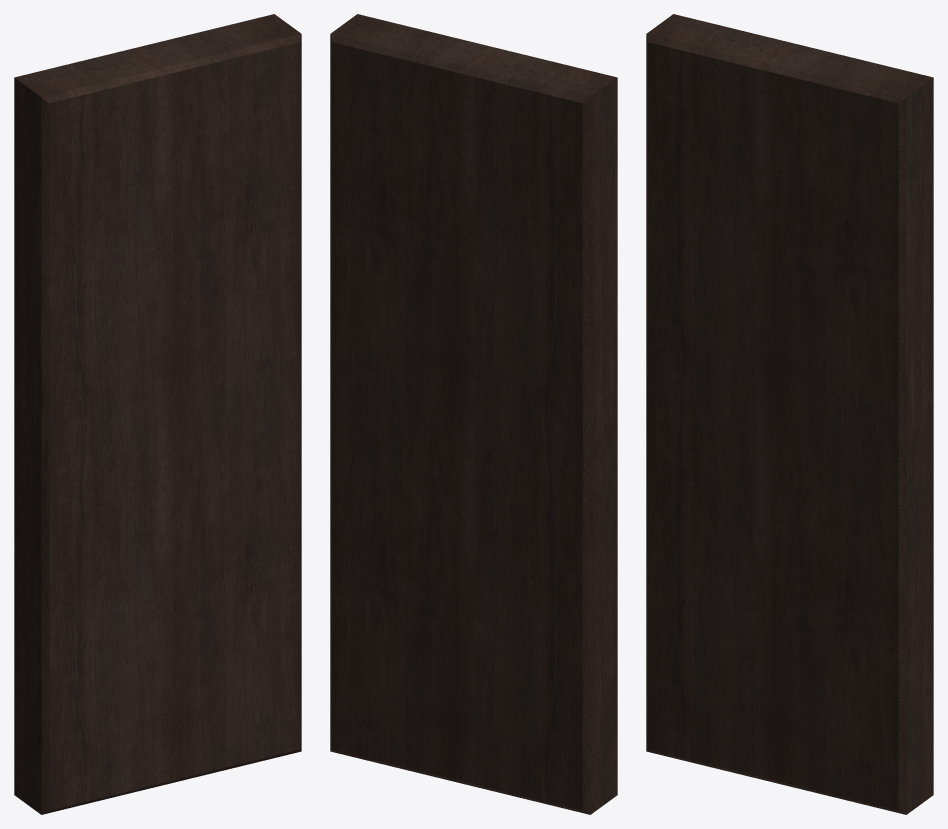
Rendered from SM_LobbyandHotel_Door_3_Elavator.FBX.
3 views of the same model, side by side, from view 1: azimuth 30°, elevation 25°; view 2: azimuth 150°, elevation 25°; view 3: azimuth 330°, elevation 25° (orthographic).
Parts seen in each view (by area): view 1: SM_LobbyandHotel_Door_3_Elavator; view 2: SM_LobbyandHotel_Door_3_Elavator; view 3: SM_LobbyandHotel_Door_3_Elavator.
Part boxes in pixels (x1=…): SM_LobbyandHotel_Door_3_Elavator: x1=14, y1=14, x2=301, y2=814; SM_LobbyandHotel_Door_3_Elavator: x1=330, y1=14, x2=617, y2=814; SM_LobbyandHotel_Door_3_Elavator: x1=646, y1=14, x2=933, y2=814.
Bounding box in the file's own units: 1.06 × 2.78 × 0.2308.
